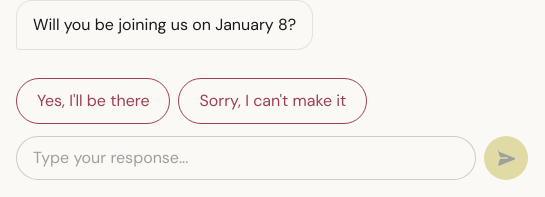
Scenario: RSVPChat › submits a decline and shows the understanding message
The width and height of the screenshot is (545, 197).
Click the button "Sorry, I can't make it". click: (273, 101)
box: [178,78,367,124]
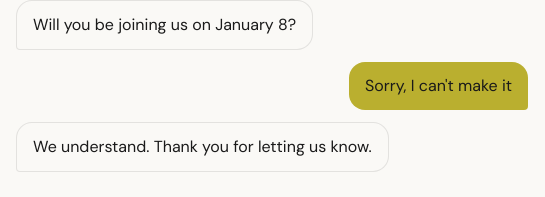
Result: the text "We understand. Thank you for letting us know." is shown at [16,122,389,172]
